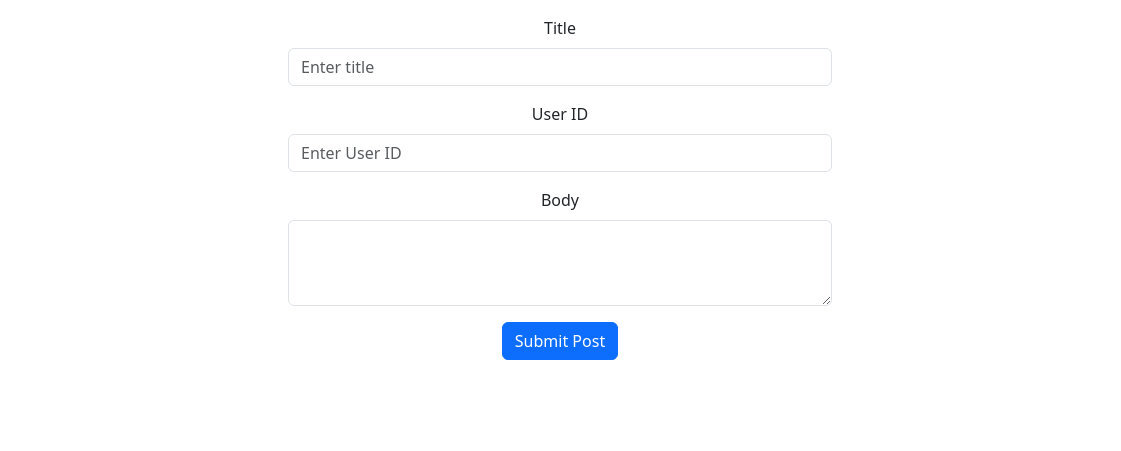
Test: AddPost Component › submits the form and shows success alert when a post is added successfully
This screenshot has width=1121, height=451.
// Simulate filling in the form fields
Step 1. Type "New Post" into the field labelled "Title" → (560, 67), box [288,48,832,86]
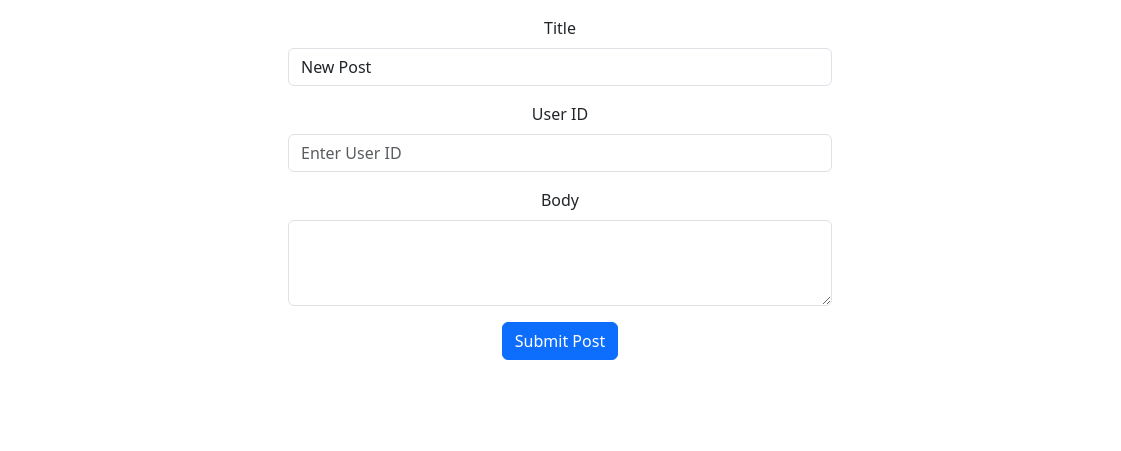
Step 2. Type "1" into the number field labelled "User ID" → (560, 153), box [288,134,832,172]
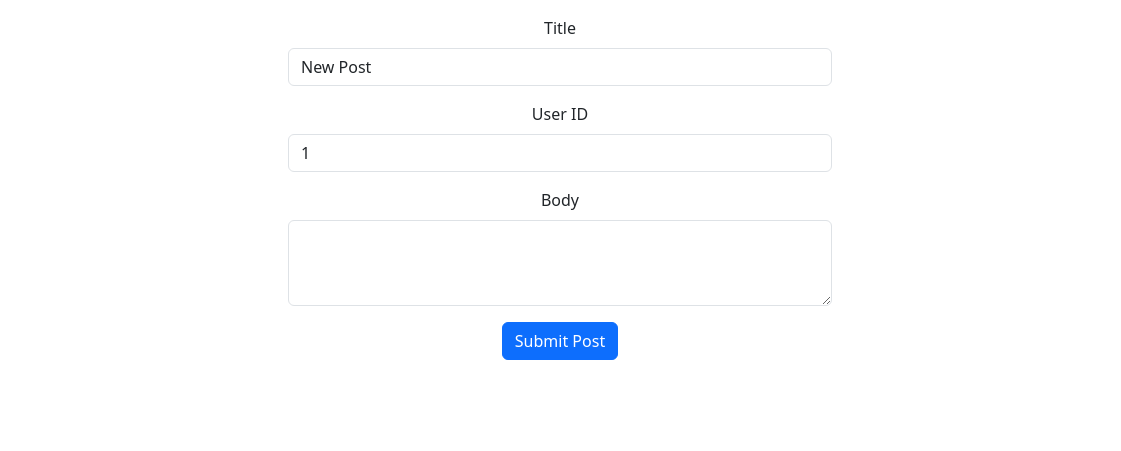
Step 3. Type "This is a really new post" into the text box labelled "Body" → (560, 263), box [288,220,832,306]
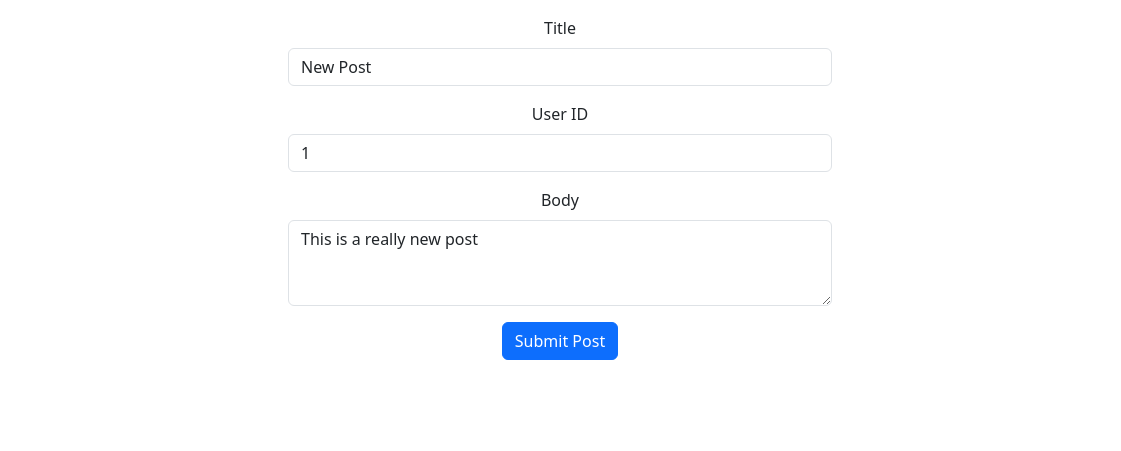
// Simulate submitting the form by clicking the Submit Post button
Step 4. Click the button "Submit Post" → (560, 341), box [502,322,618,360]
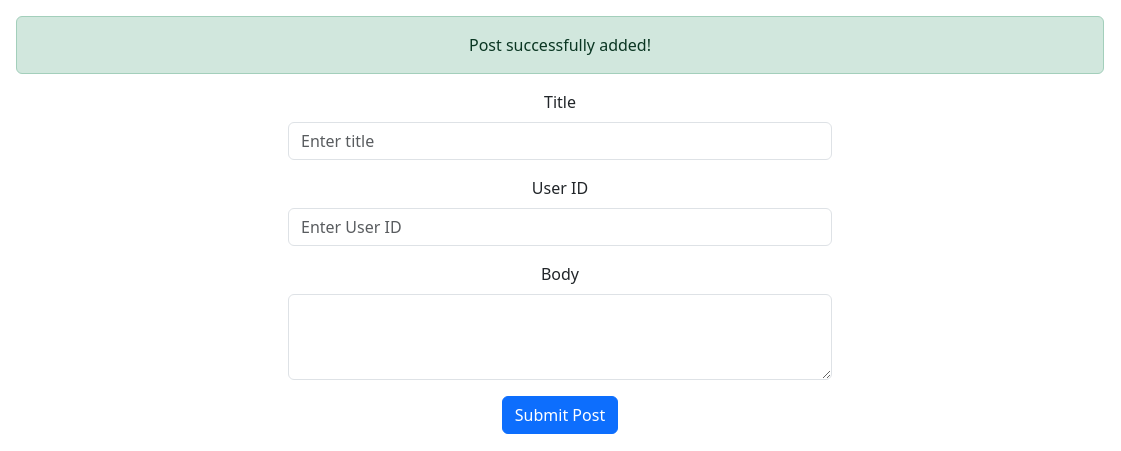
Check: the text "Post successfully added!" is shown, box [16,16,1104,74]
